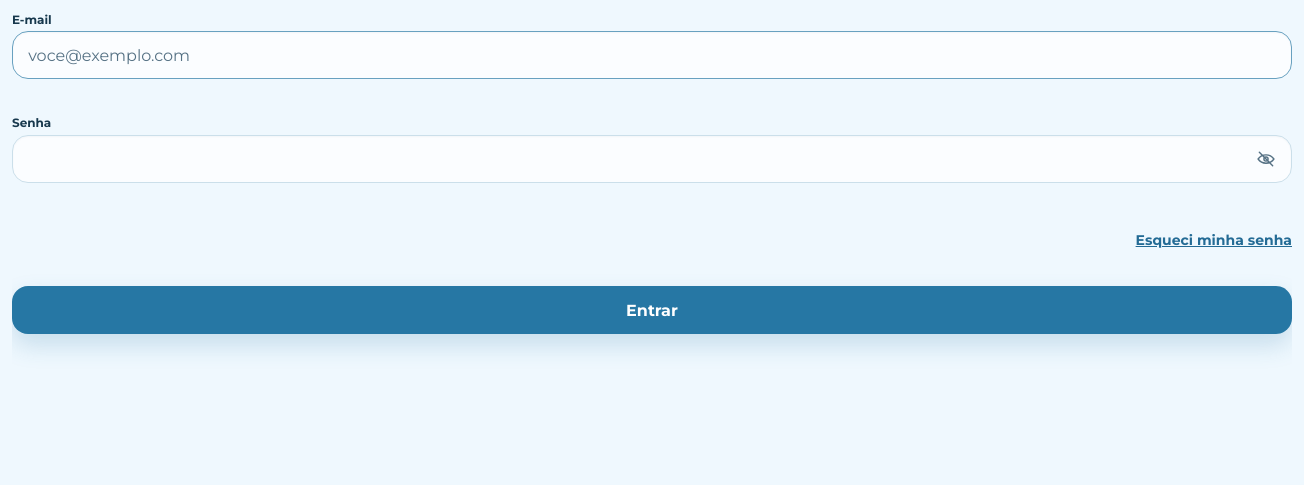
orienta confirmar o e-mail e reutiliza o reenvio para o endereço informado
The image size is (1304, 485).
Type " user@example.com " into the field labelled "E-mail".
click(652, 56); type(" user@example.com ")  # box [12,32,1292,80]
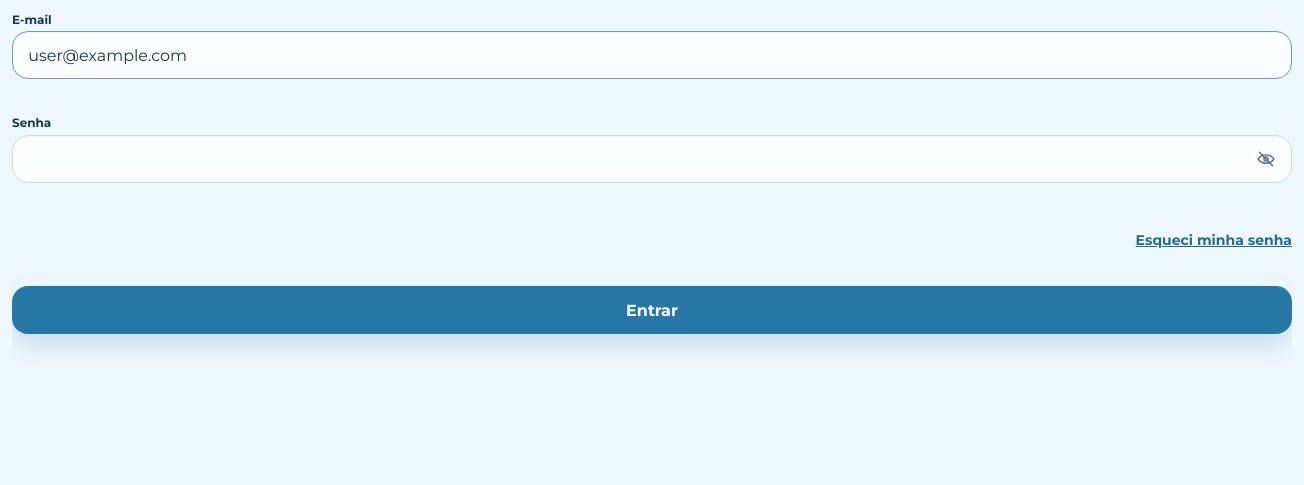
Type "senha-segura" into the password field labelled "Senha".
click(652, 159); type("senha-segura")  # box [12,135,1292,183]
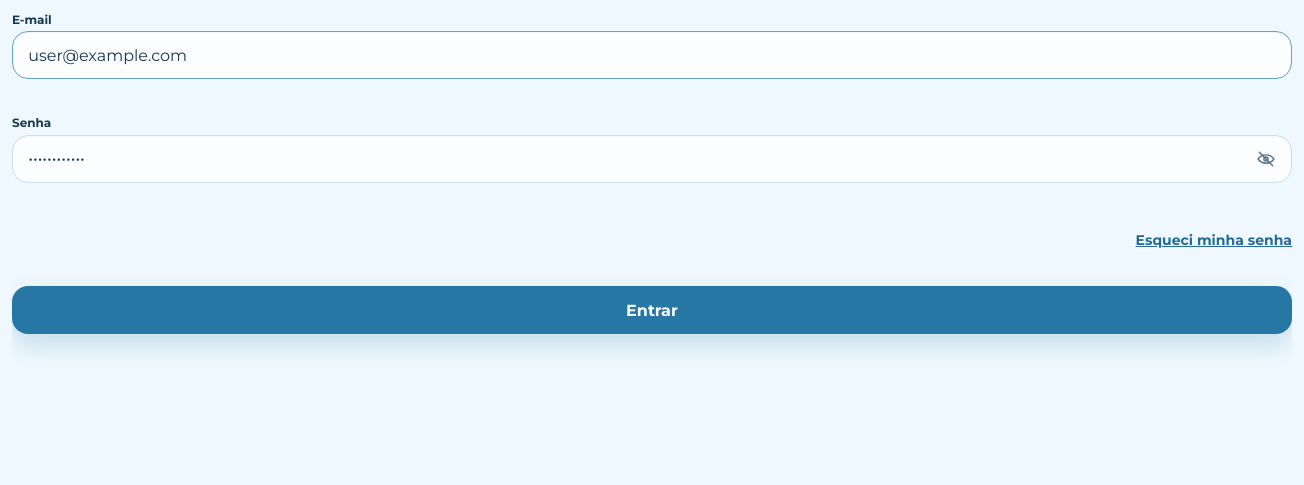
Click the button "Entrar".
click(652, 310)  # box [12,286,1292,334]
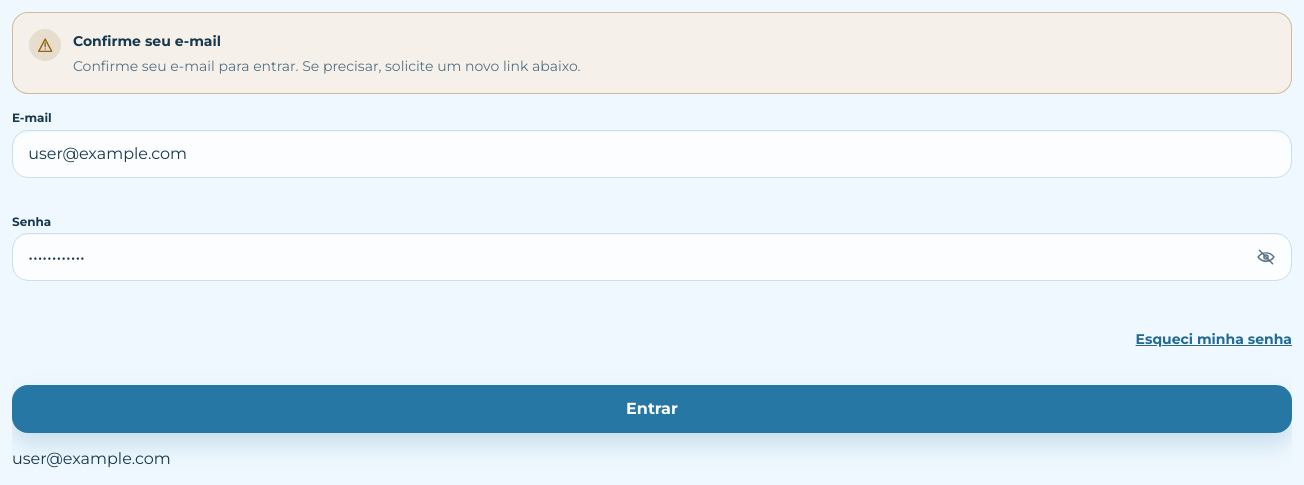
Expected: the text "Confirme seu e-mail" is shown, [73,32,221,50]
Expected: the text with test id "resend-email" reads "user@example.com", [12,449,171,468]
Replace the text in the field labelled "E-mail" with "other@example.com" at coordinates (652, 154), box [12,130,1292,178]
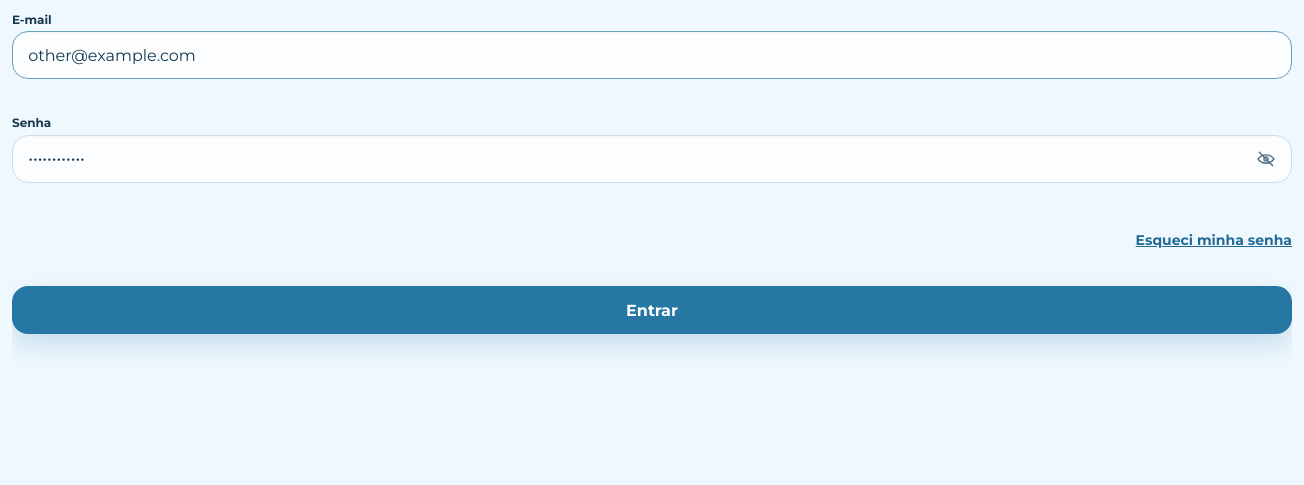
Expected: the text with test id "resend-email" is gone
